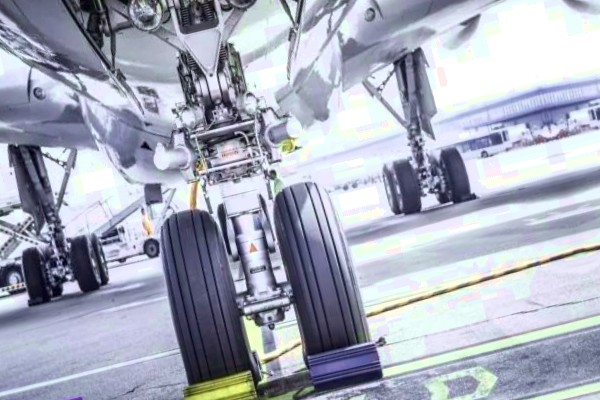chock: (306, 336, 385, 393), (177, 367, 262, 400), (450, 189, 480, 208), (25, 293, 53, 309)
wheel: (263, 175, 381, 392), (145, 204, 259, 400), (16, 241, 66, 305), (65, 230, 110, 293), (429, 144, 473, 206), (378, 156, 422, 217), (423, 152, 454, 206), (37, 244, 65, 298), (213, 201, 238, 260), (377, 161, 404, 215), (253, 191, 277, 249), (86, 232, 111, 286), (0, 261, 28, 297), (141, 236, 162, 259)
